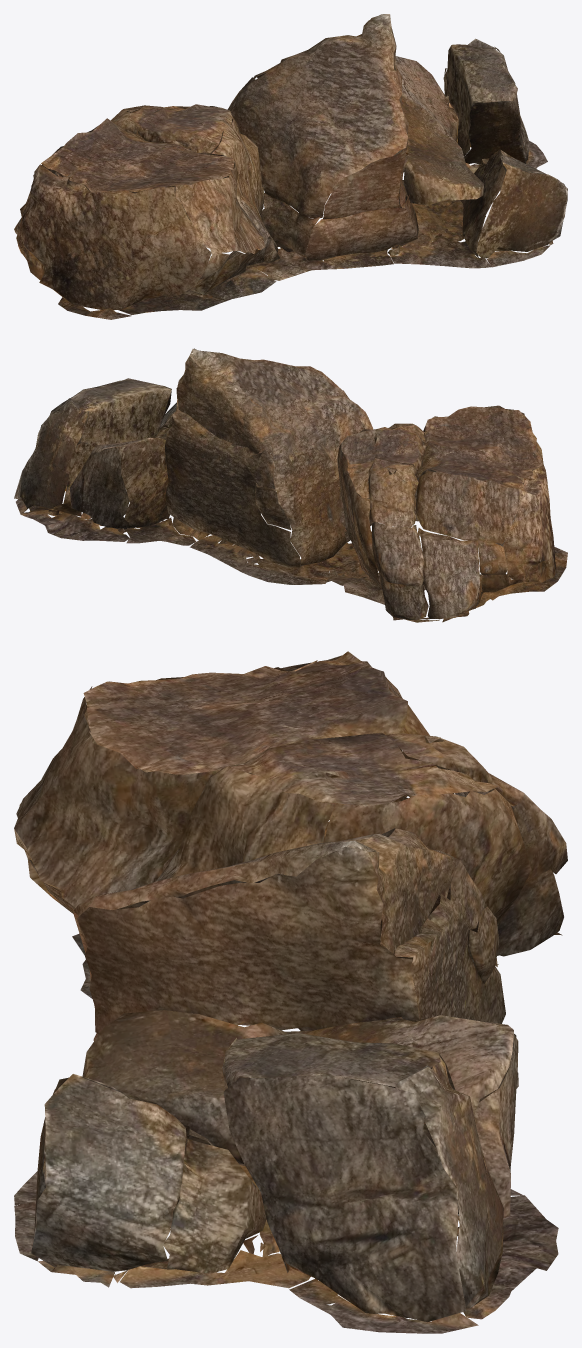
Rendered from ph_namaqualand_boulder_02_hi.glb.
3 renders of one model, top to bottom at view 1: azimuth 30°, elevation 25°; view 2: azimuth 150°, elevation 25°; view 3: azimuth 270°, elevation 25°, orthographic. The views are drawn at different scales.
Parts seen in each view (by area): view 1: boulder_02; view 2: boulder_02; view 3: boulder_02.
Boxes of the visible parts, x1,y1,x2,y2 form: boulder_02: (14,14,567,319); boulder_02: (14,348,567,622); boulder_02: (14,651,567,1333).
Bounding box in the file's own units: 2.52 × 0.8766 × 1.23.
1 material, 1 textured.
